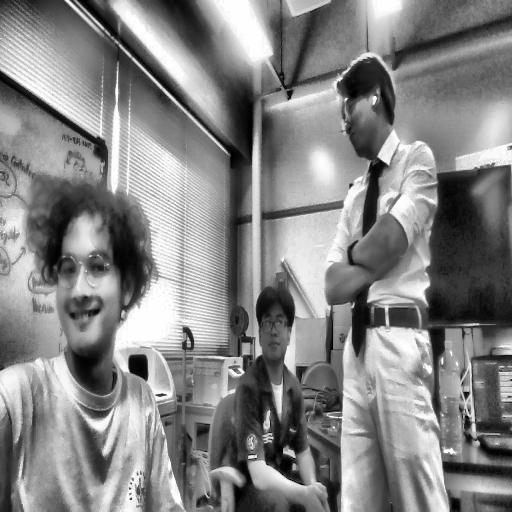Daifuku: (26, 167, 159, 380)
Not Daifuku: (334, 47, 400, 162), (256, 280, 298, 374)
